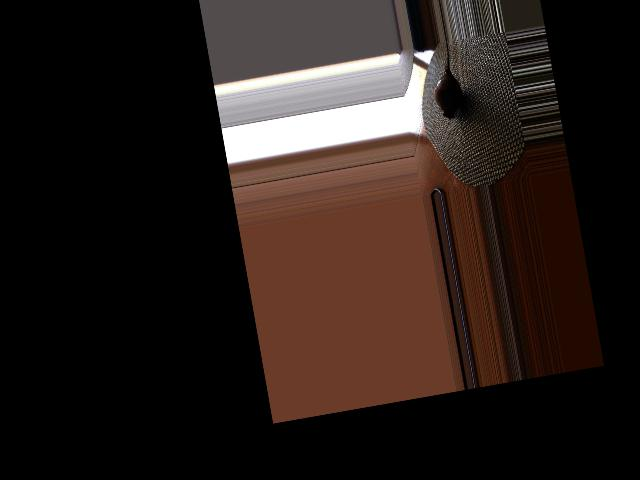beet: (426, 41, 466, 120)
